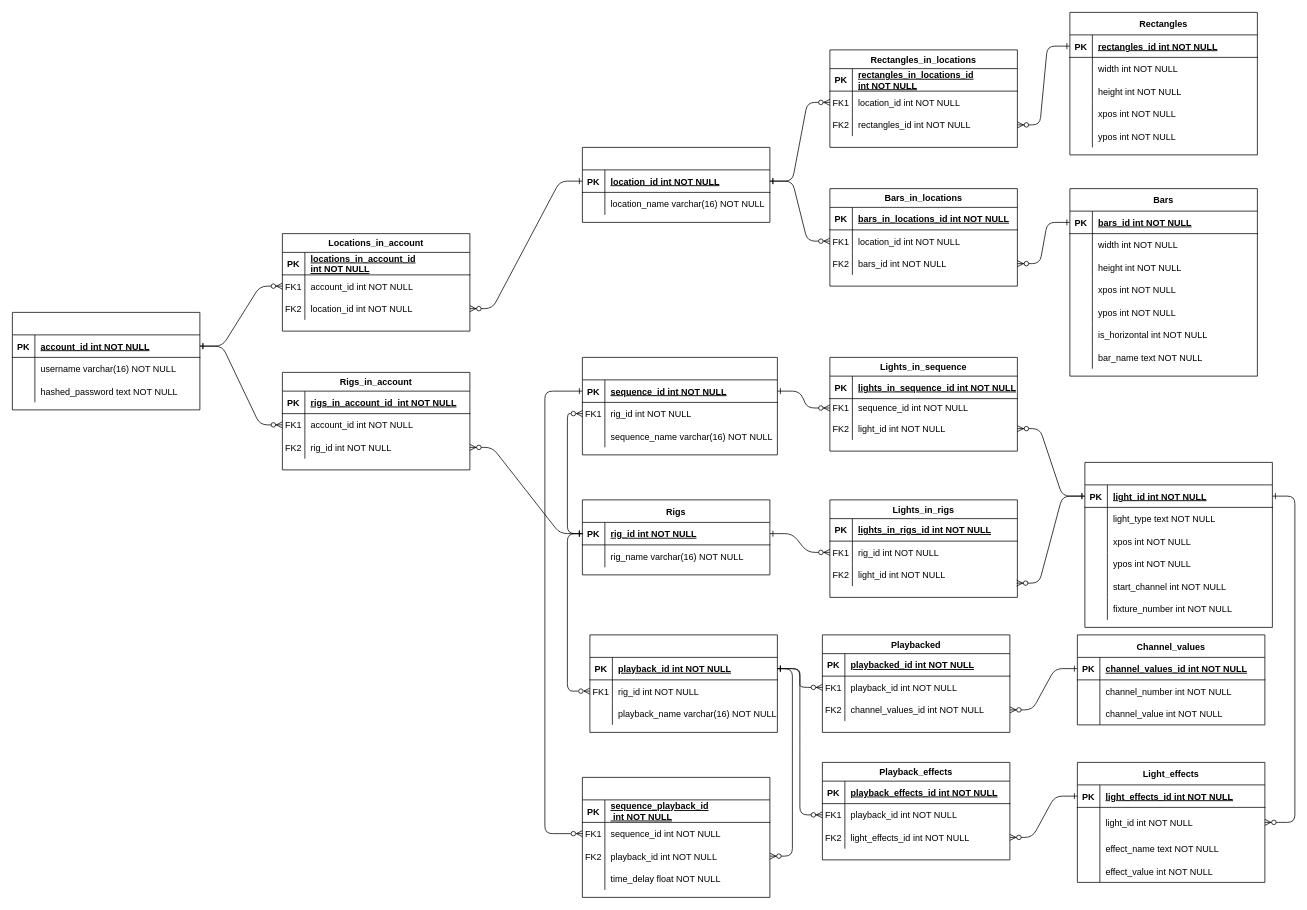
Some shapes in this 1307 by 910 pixel diagram are drawn without their labels. The box of each missing label's shape, as (x1, y1, x2, y2) in pixels:
Accounts: (12, 312, 200, 410)
Lights: (1084, 462, 1272, 627)
Locations: (582, 147, 770, 222)
Playbacks: (589, 634, 777, 732)
Sequence_playbacks: (582, 777, 770, 897)
Sequences: (582, 357, 777, 455)
